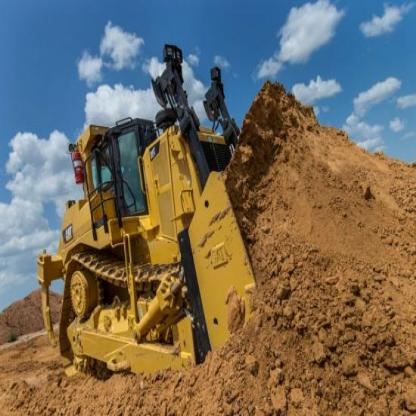bull_dozer/loader/grader: (30, 44, 312, 390)
